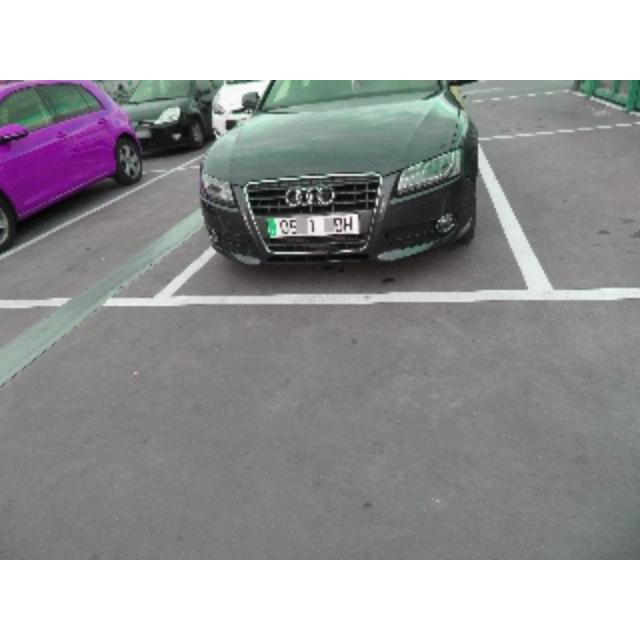car: (196, 82, 480, 278), (0, 80, 146, 254)
plate: (267, 213, 359, 237)
